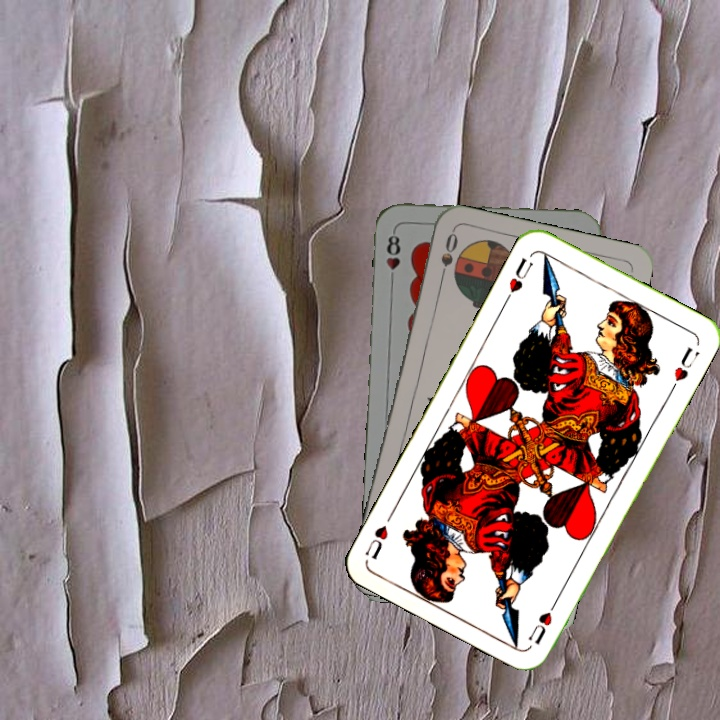H8: (382, 227, 403, 286)
HU: (524, 594, 562, 648), (501, 253, 536, 305)
SO: (435, 228, 461, 287)
